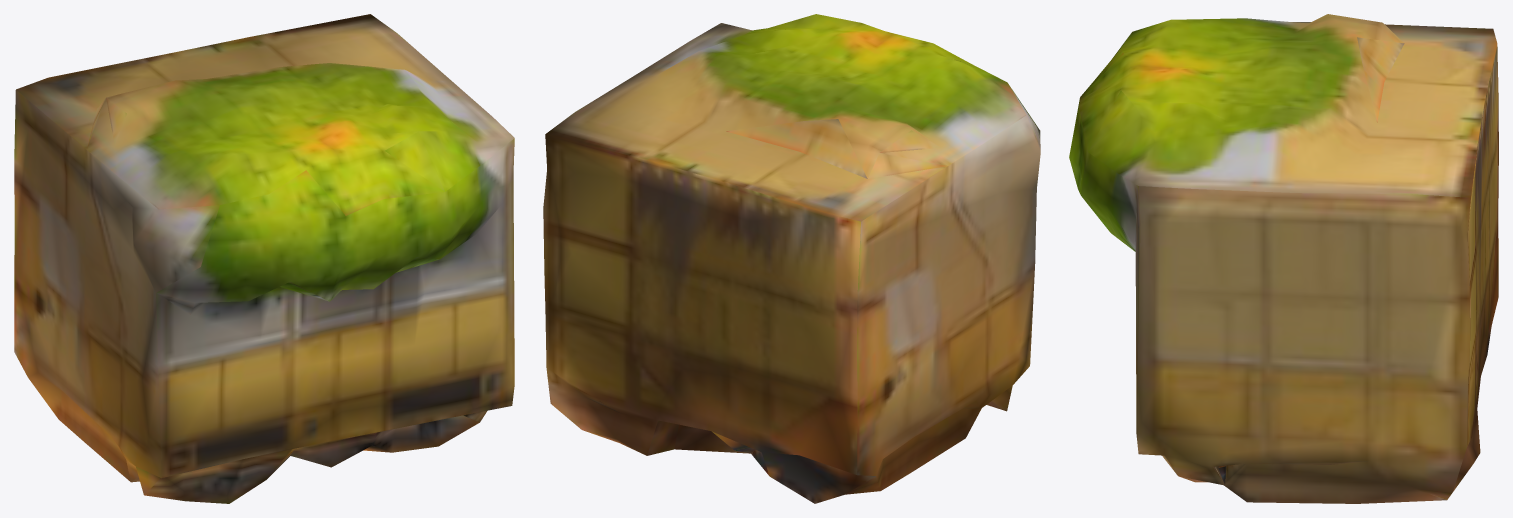
Rendered from recycle.fbx.
3 renders of one model, left to right at view 1: azimuth 30°, elevation 25°; view 2: azimuth 150°, elevation 25°; view 3: azimuth 270°, elevation 25°, orthographic. The views are drawn at different scales.
Visible parts, largest first — view 1: recycle; view 2: recycle; view 3: recycle.
Part boxes in pixels (x1,y1,x2,y2): recycle: (14, 14, 514, 503); recycle: (543, 14, 1040, 503); recycle: (1069, 14, 1498, 503).
Size of the model in its own units: 127 by 114 by 123.
